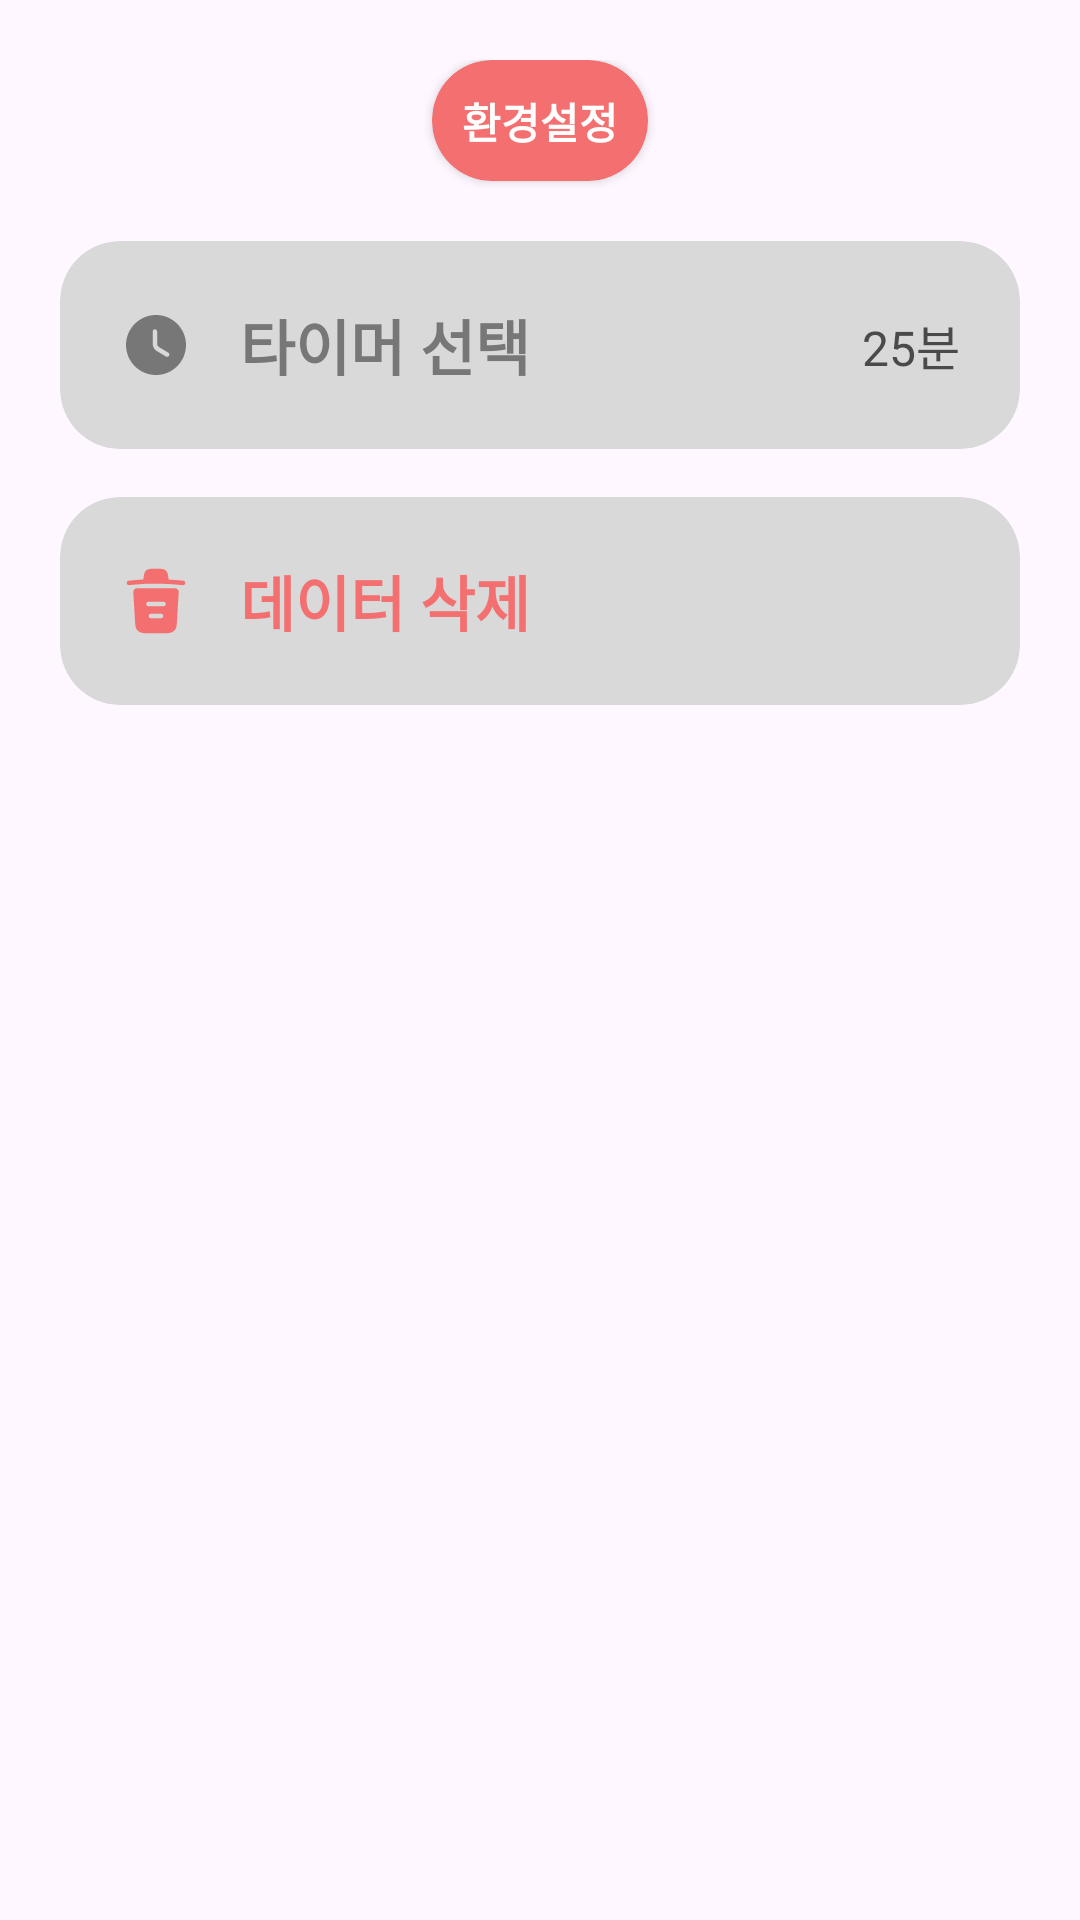

Icon bounding boxes for this 1080*1920 phone screenshot, format (x1, y1, x2, y2):
clock: (126, 315, 186, 375)
trash: (127, 568, 185, 634)
